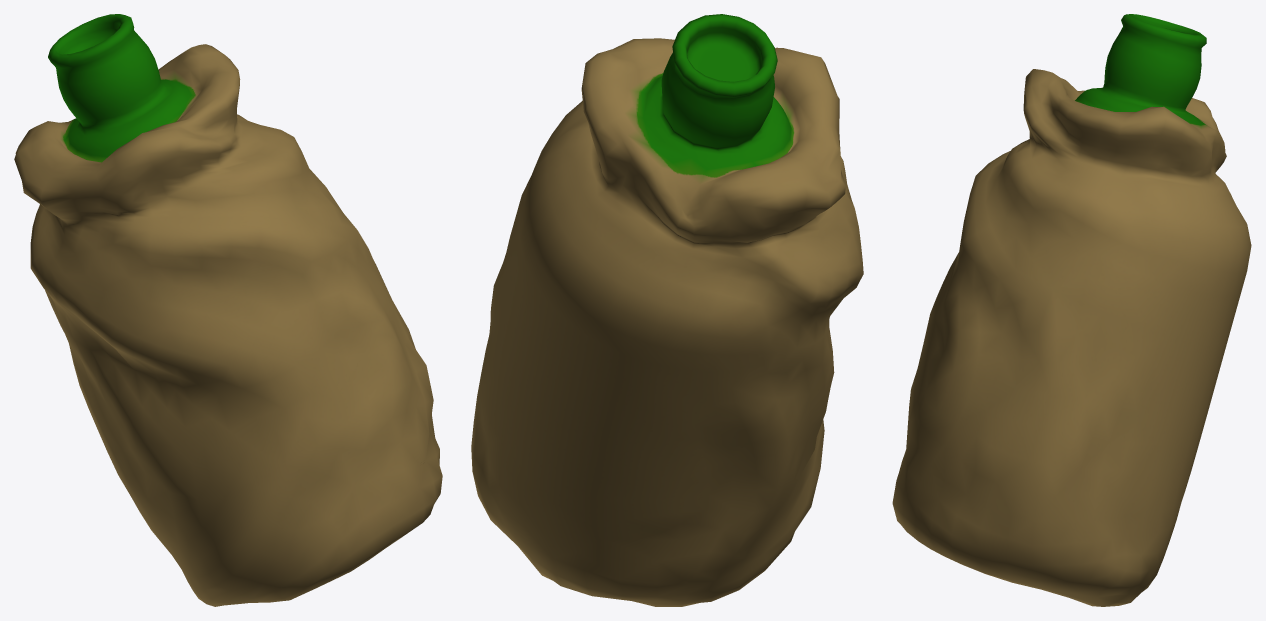
File: BottleinaBag1.glb
3 renders of one model, left to right at view 1: azimuth 30°, elevation 25°; view 2: azimuth 150°, elevation 25°; view 3: azimuth 270°, elevation 25°, orthographic. The views are drawn at different scales.
Visible parts, largest first — view 1: BottleinaBag1; view 2: BottleinaBag1; view 3: BottleinaBag1.
Part boxes in pixels (x1,y1,x2,y2): BottleinaBag1: [14, 14, 442, 606]; BottleinaBag1: [471, 14, 863, 606]; BottleinaBag1: [892, 14, 1251, 606].
Bounding box in the file's own units: 0.00407 × 0.00615 × 0.00378.
Materials: 1 (1 with a texture image).
